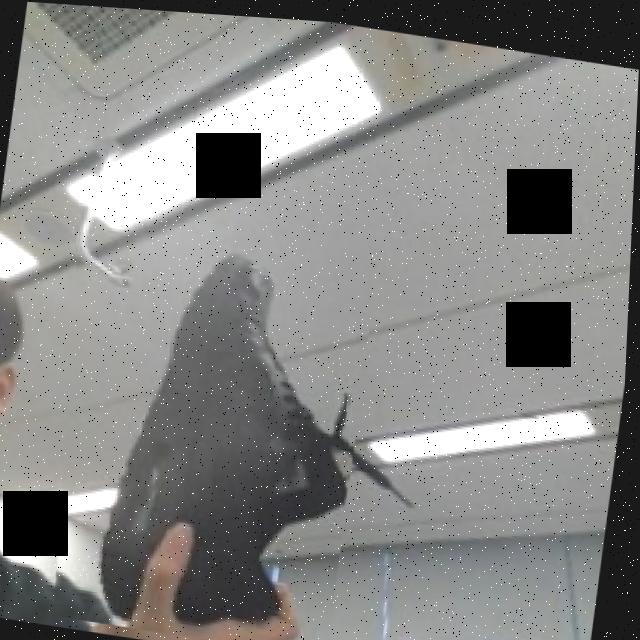shoe: (30, 190, 383, 640)
